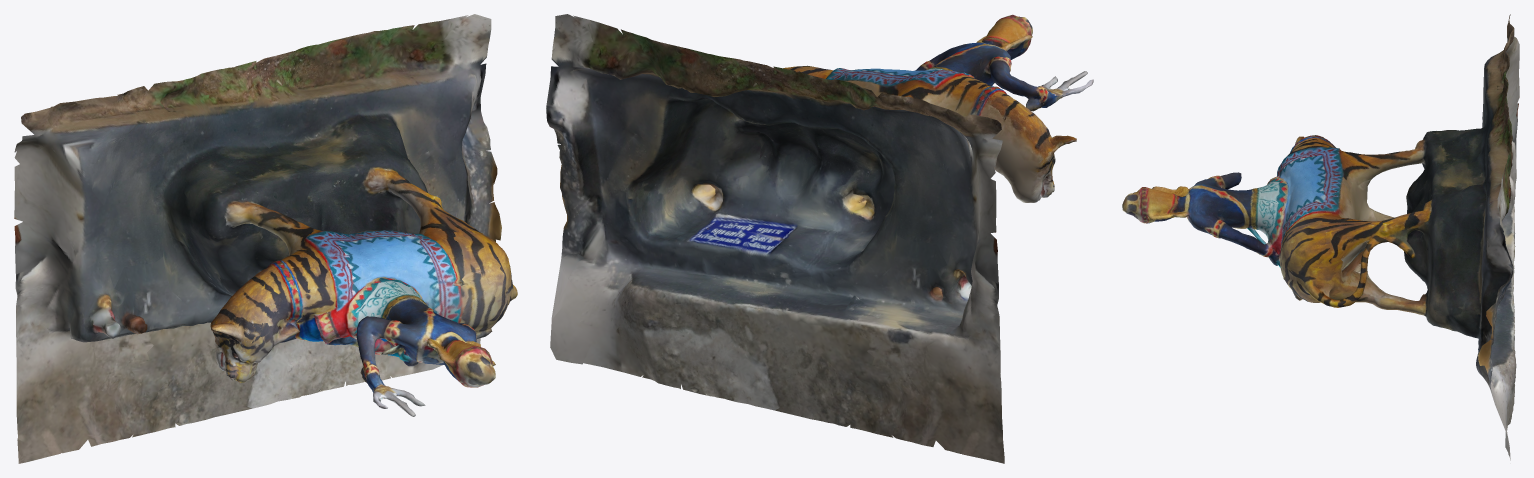
Rendered from tiger_thai_goodness.fbx.
3 renders of one model, left to right at view 1: azimuth 30°, elevation 25°; view 2: azimuth 150°, elevation 25°; view 3: azimuth 270°, elevation 25°, orthographic. The views are drawn at different scales.
Visible parts, largest first — view 1: Object_4; view 2: Object_4; view 3: Object_4.
Boxes of the visible parts, x1,y1,x2,y2 form: Object_4: (14,14,517,463); Object_4: (546,14,1093,463); Object_4: (1122,14,1519,460).
Size of the model in its own units: 1.25 by 0.905 by 1.17.
1 material, 1 textured.
